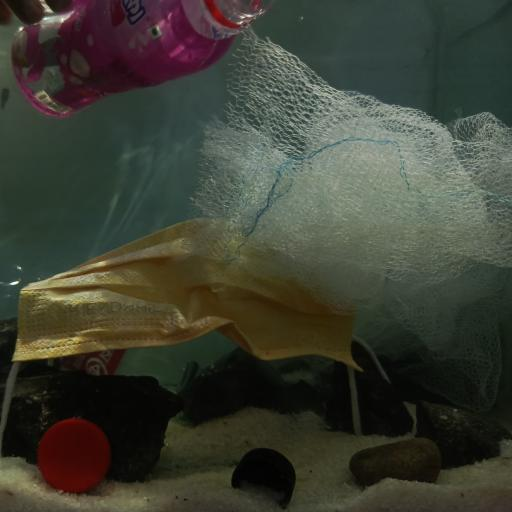bottle_cap: (38, 417, 110, 491), (233, 445, 297, 507)
mask: (6, 214, 382, 398)
net: (189, 27, 512, 416)
plastic_bottle: (10, 0, 259, 118), (0, 259, 198, 390)
